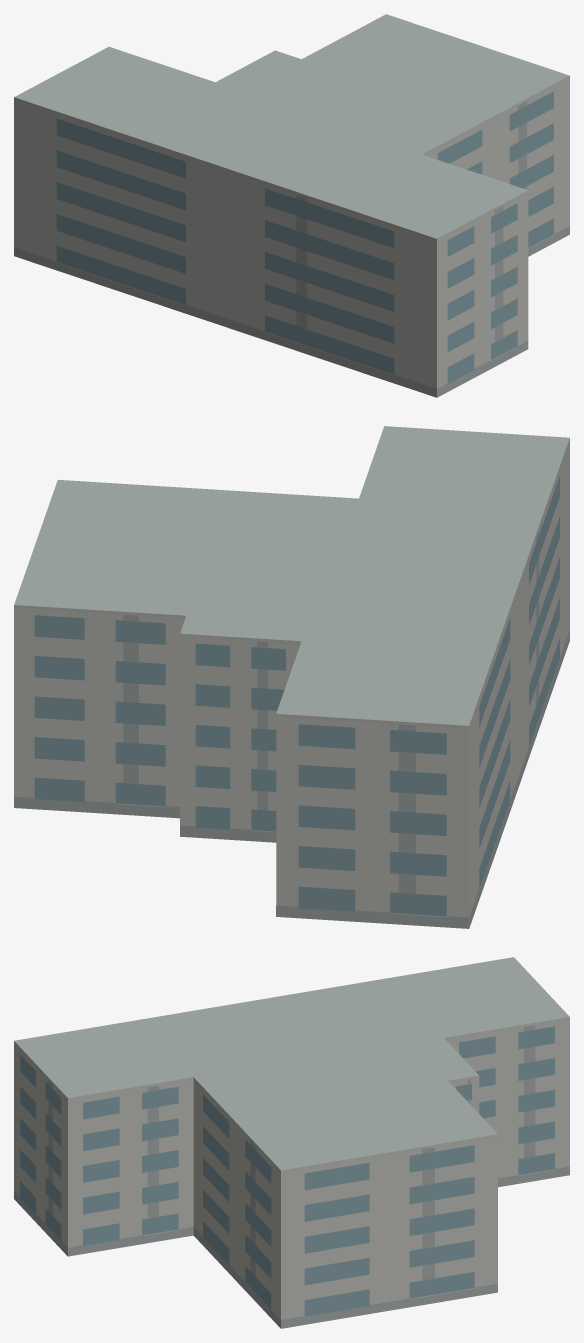
Rendered from residential-9bae1a07-e30f-4fde-a77f-8e4a634cbe68.glb.
The picture shows the model from 3 angles, top to bottom: view 1: azimuth 30°, elevation 25°; view 2: azimuth 150°, elevation 25°; view 3: azimuth 270°, elevation 25°; orthographic projection. The views are drawn at different scales.
Visible parts, largest first — view 1: residential-9bae1a07-e30f-4fde-a77f-8e4a634cbe68.tmp; view 2: residential-9bae1a07-e30f-4fde-a77f-8e4a634cbe68.tmp; view 3: residential-9bae1a07-e30f-4fde-a77f-8e4a634cbe68.tmp.
Part boxes in pixels (x1,y1,x2,y2): residential-9bae1a07-e30f-4fde-a77f-8e4a634cbe68.tmp: (14,14,569,397); residential-9bae1a07-e30f-4fde-a77f-8e4a634cbe68.tmp: (14,426,569,928); residential-9bae1a07-e30f-4fde-a77f-8e4a634cbe68.tmp: (14,957,569,1328).
Bounding box in the file's own units: 44.08 × 15.25 × 48.52.
